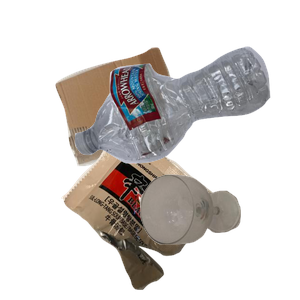cardboard: (53, 45, 221, 204)
glass: (138, 172, 300, 300)
plastic: (72, 44, 300, 200)
trash: (59, 124, 273, 300)
